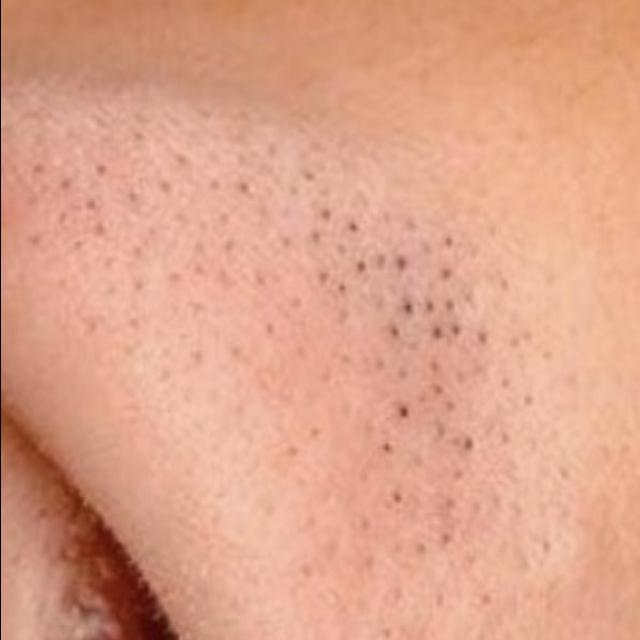blackhead: (50, 111, 553, 579)
